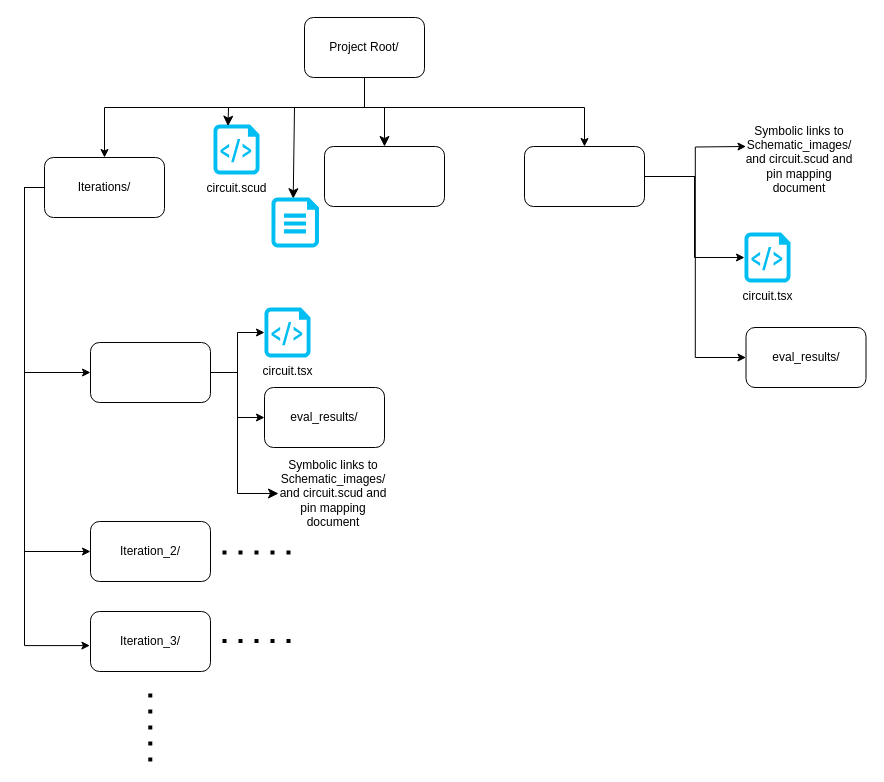
Some shapes in this 884 by 782 pixel diagram are drawn without their labels. The shapes that lost their labels are listed below. From the top down, each one's centre as x and y in pixels, then its label:
the point at 384,176: schematic_images/
the point at 584,176: Stable/
the point at 294,222: Pin mapping
the point at 150,372: Iteration_1/
